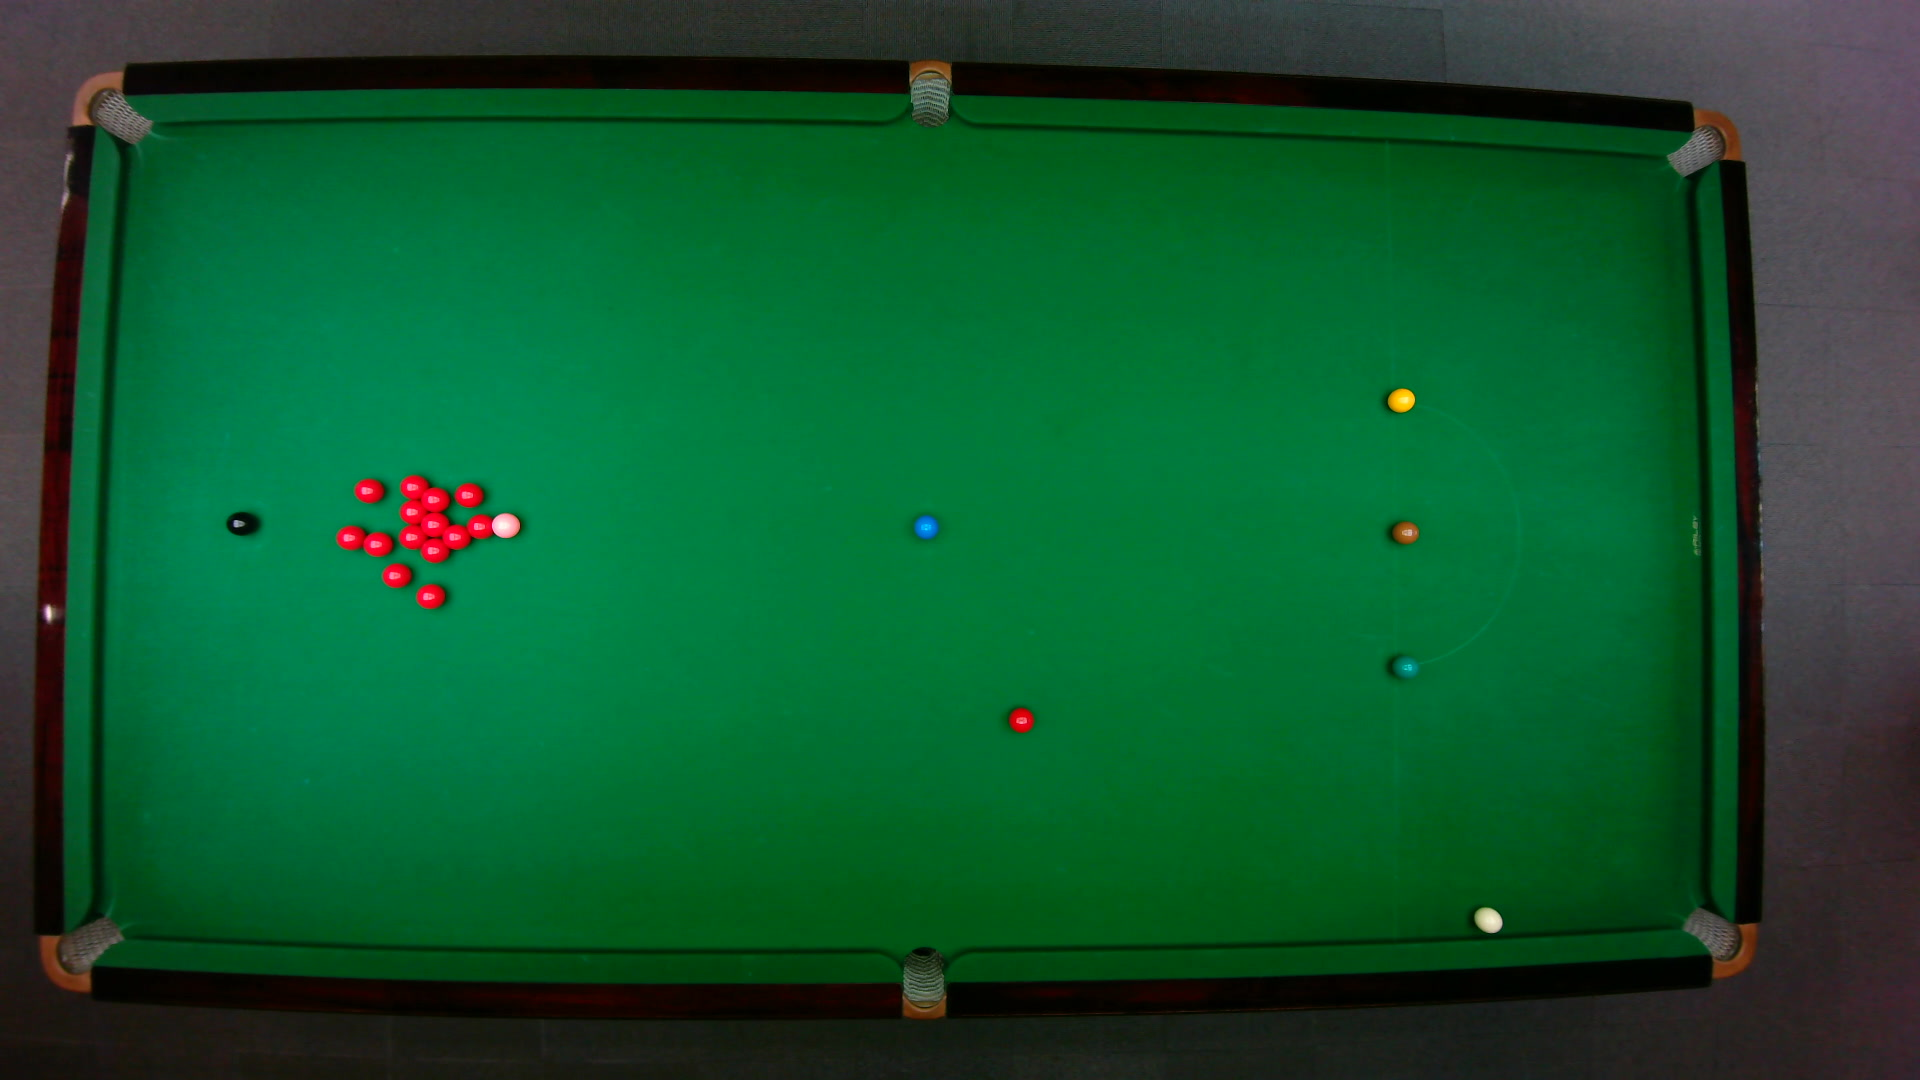bag: (37, 914, 125, 992), (69, 69, 153, 145), (1677, 905, 1756, 978), (1663, 107, 1741, 177), (901, 944, 944, 1021), (909, 58, 949, 128)
black: (224, 510, 256, 535)
blue: (913, 513, 938, 539)
brown: (1390, 520, 1419, 545)
green: (1389, 651, 1419, 679)
pink: (489, 512, 521, 539)
red: (359, 529, 393, 556), (414, 582, 446, 609), (380, 560, 411, 588), (352, 476, 385, 502), (419, 535, 450, 563), (334, 524, 365, 550), (439, 522, 471, 549), (398, 473, 429, 500), (454, 480, 484, 506), (1006, 705, 1034, 733), (421, 485, 448, 512), (465, 512, 492, 539), (397, 524, 426, 549), (419, 512, 448, 535), (398, 500, 423, 521)
white: (1472, 905, 1503, 934)
yellow: (1385, 386, 1416, 413)
zone: (1389, 402, 1520, 666)
